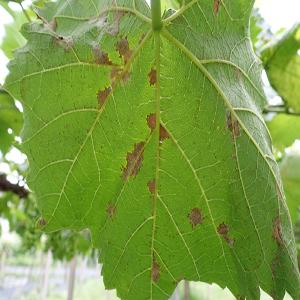Folha: (2, 0, 299, 299)
Fungo: (105, 112, 169, 220), (91, 35, 133, 108), (31, 3, 74, 53), (120, 140, 146, 186), (145, 112, 169, 146), (31, 3, 57, 33), (105, 0, 125, 37), (87, 1, 110, 32), (268, 245, 280, 300), (114, 35, 133, 65), (216, 221, 235, 249), (271, 210, 285, 248), (91, 40, 112, 64), (52, 33, 74, 53), (225, 109, 240, 138), (187, 206, 205, 230), (96, 84, 112, 108), (231, 66, 245, 92), (151, 253, 163, 283), (109, 65, 122, 87), (91, 40, 103, 62), (105, 199, 117, 220), (159, 122, 169, 146), (105, 21, 119, 37), (146, 112, 156, 134), (147, 66, 157, 86), (216, 221, 229, 236), (62, 36, 74, 52), (224, 109, 232, 131), (146, 178, 156, 194), (121, 68, 131, 84), (39, 210, 47, 227), (213, 0, 219, 14)
